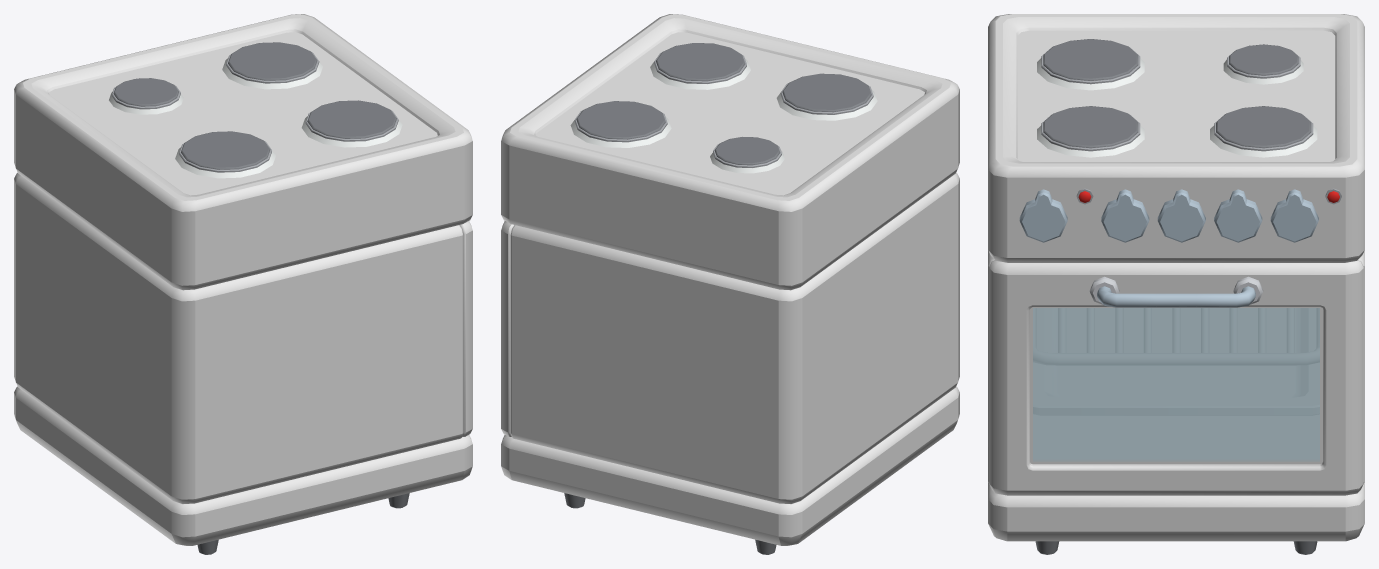
The model's file is Toaster.glb.
3 renders of one model, left to right at view 1: azimuth 30°, elevation 25°; view 2: azimuth 150°, elevation 25°; view 3: azimuth 270°, elevation 25°, orthographic. The views are drawn at different scales.
Visible parts, largest first — view 1: Toaster.001, Cube.004; view 2: Toaster.001, Cube.004; view 3: Toaster.001, Cube.004.
Part boxes in pixels (box(x1,y1,x2,y2)): Toaster.001: box(14, 14, 472, 554); Cube.004: box(459, 221, 472, 436); Toaster.001: box(501, 14, 959, 554); Cube.004: box(501, 221, 514, 436); Toaster.001: box(988, 14, 1364, 554); Cube.004: box(989, 260, 1363, 495).
Size of the model in its own units: 0.7654 by 0.8504 by 0.7053.
4 materials, 3 textured.
